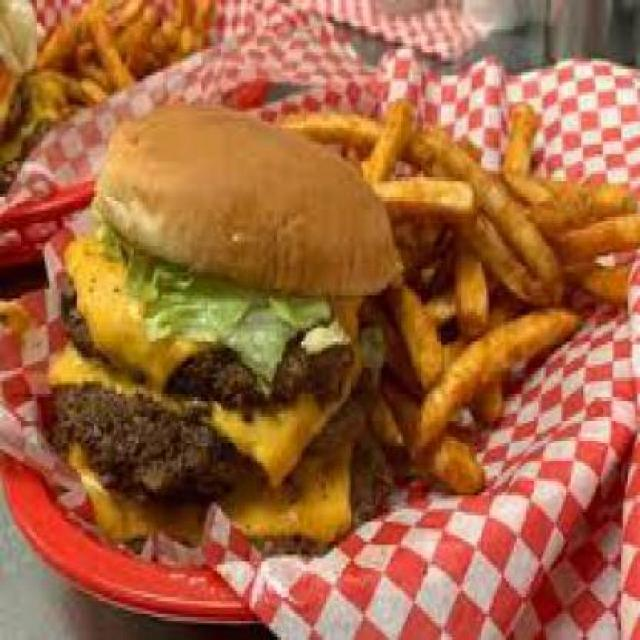french fries: (348, 85, 638, 492)
hamburger: (49, 98, 374, 544)
